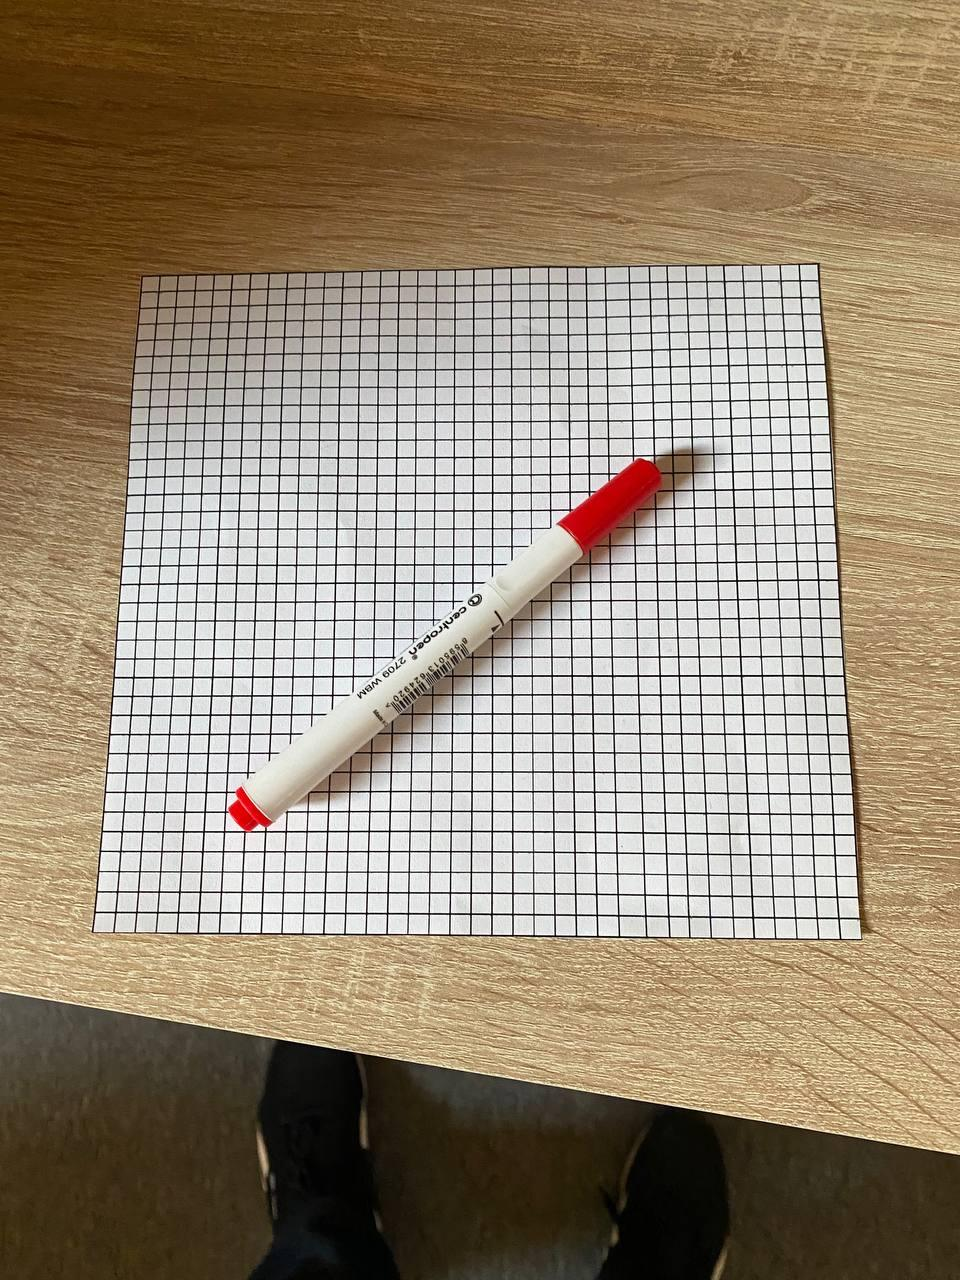grid: (83, 256, 866, 956)
